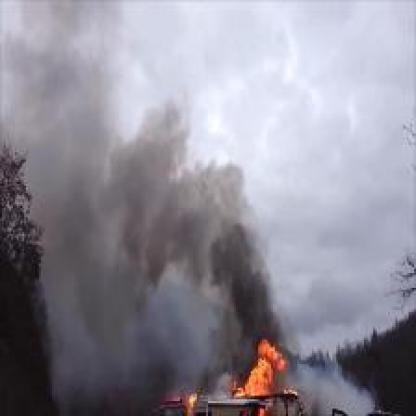fire: (219, 338, 289, 397)
smoke: (11, 66, 288, 334)
